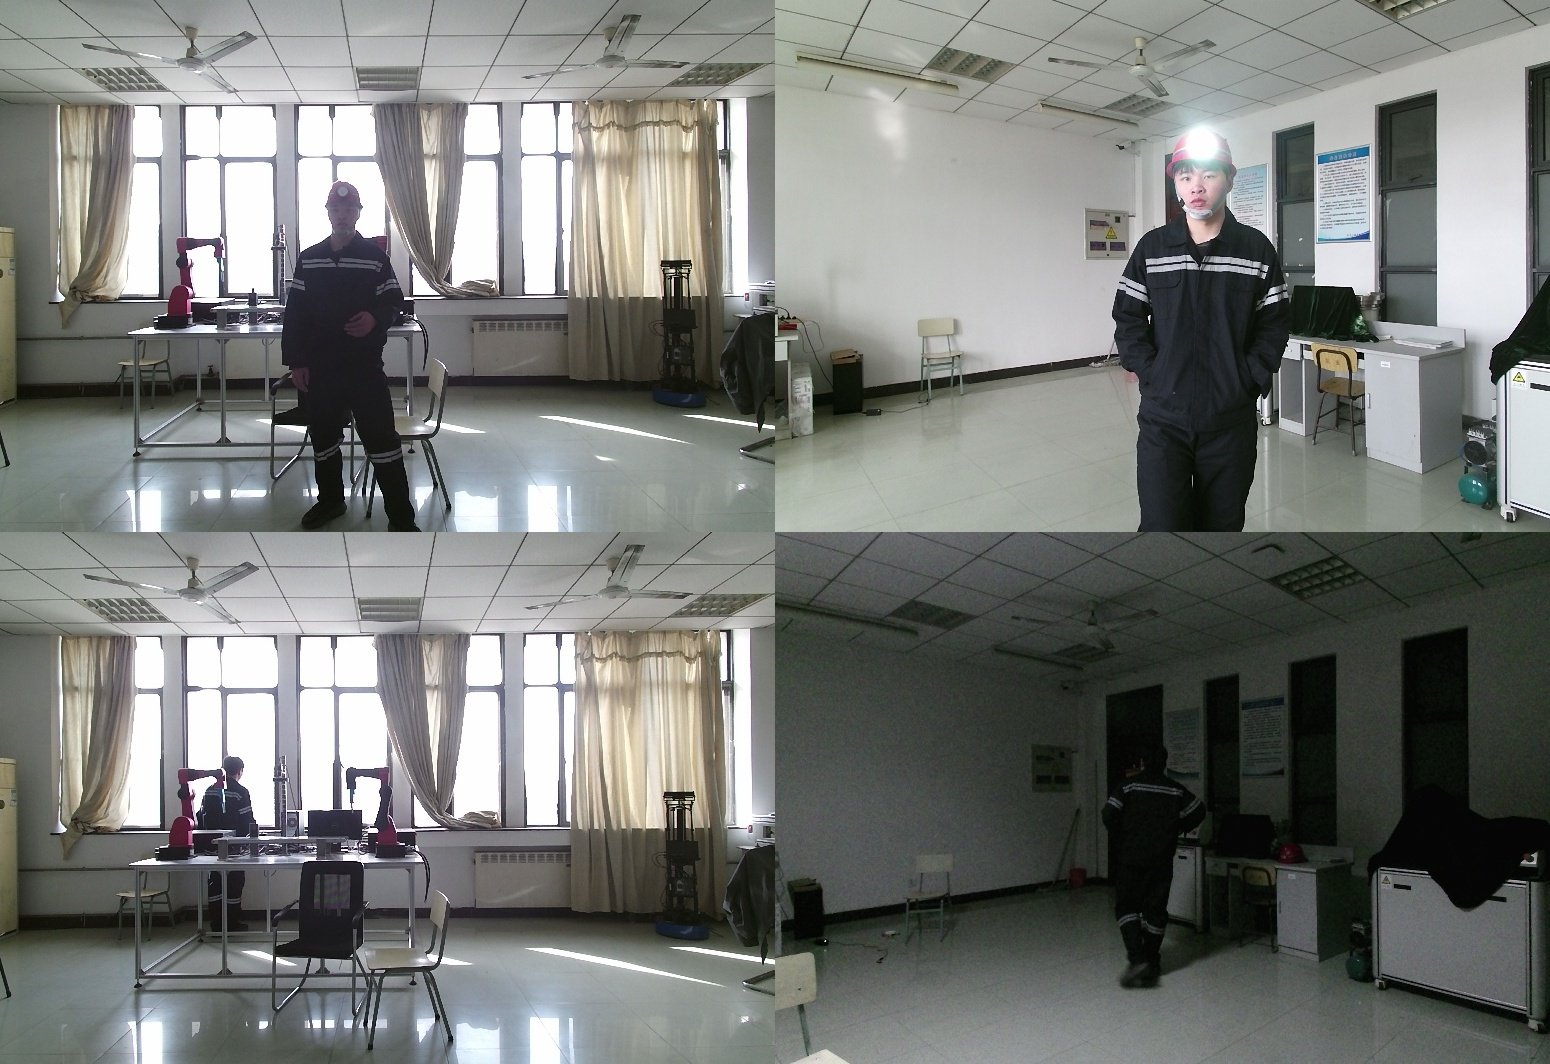person: (1113, 126, 1313, 532), (283, 182, 417, 532), (1105, 742, 1213, 995), (198, 760, 254, 949)
